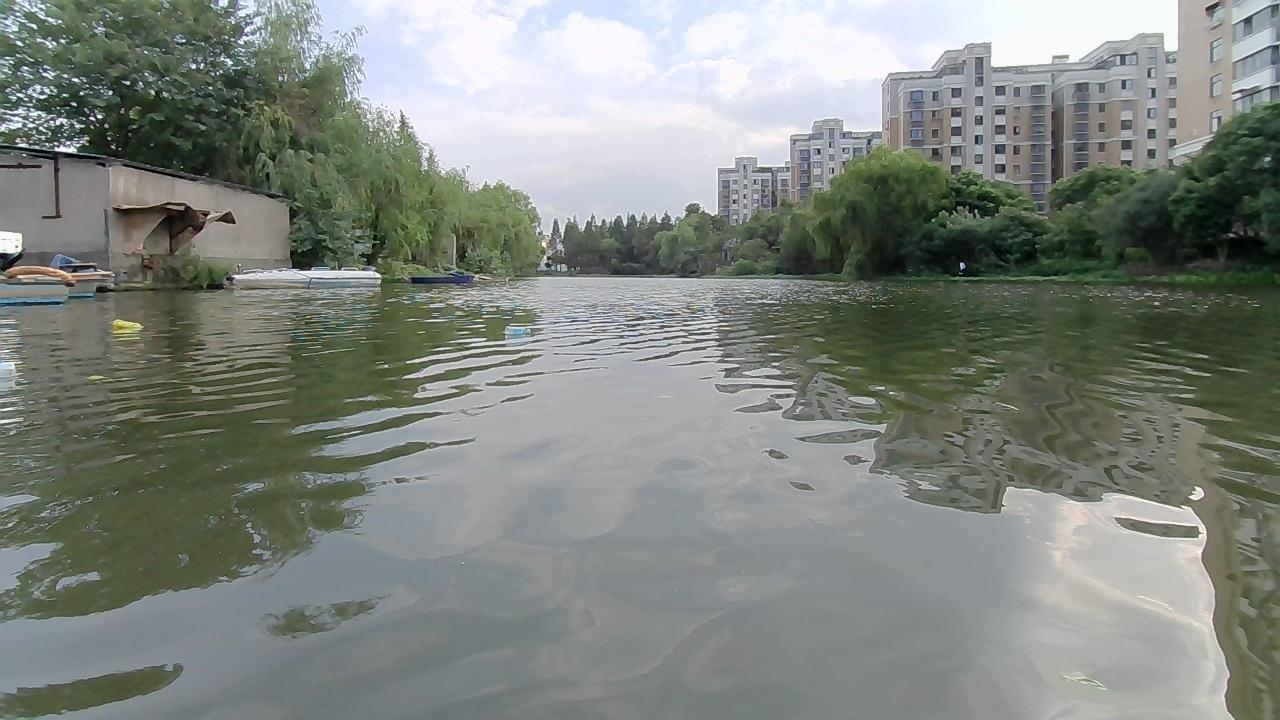bottle: (109, 316, 143, 329)
